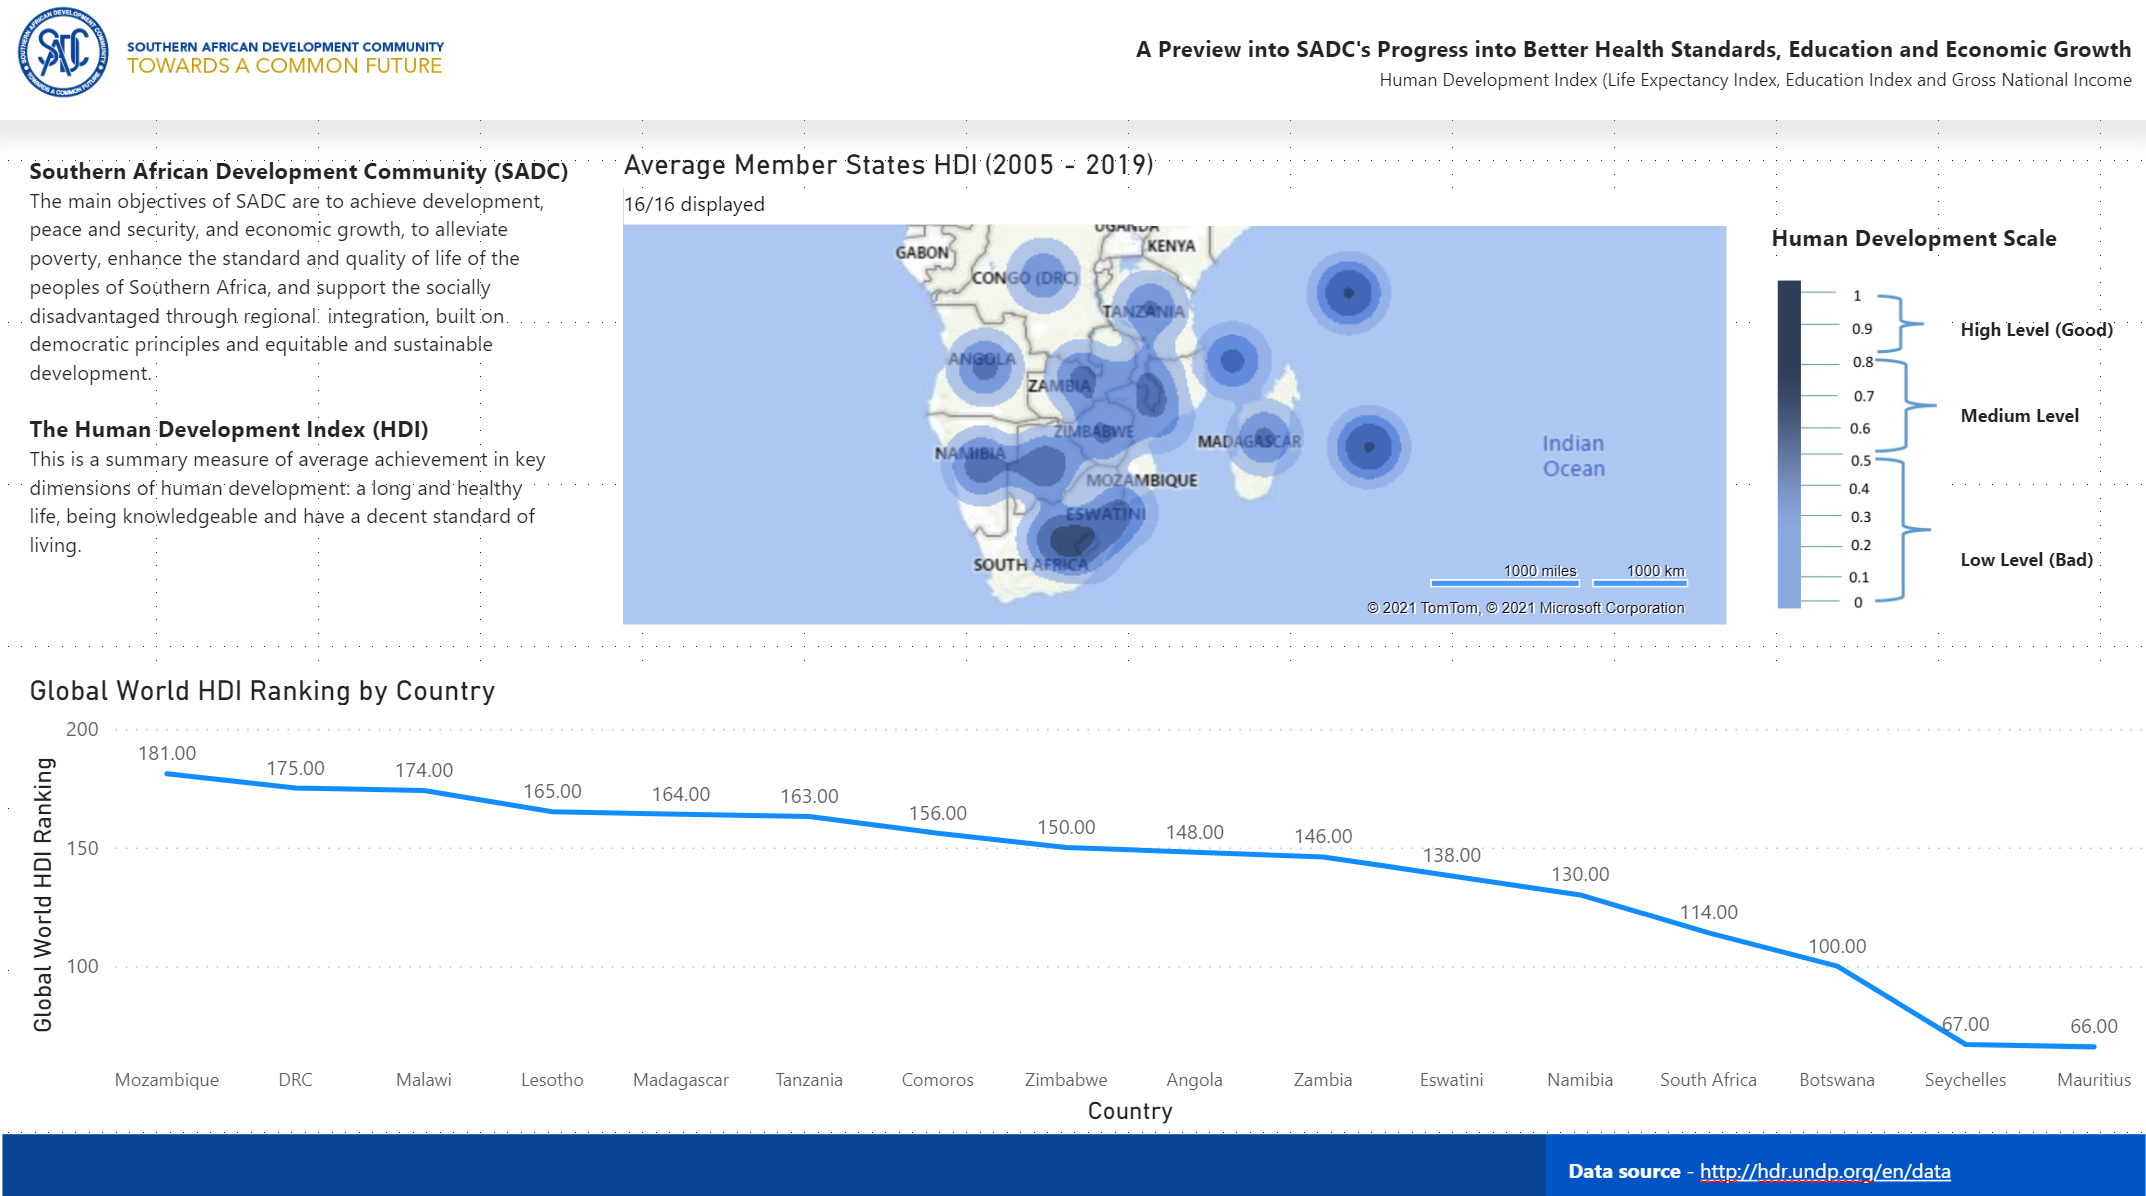

The dashboard page shown, as its layout file describes it:
{"tool":"powerbi","page":{"name":"HDI-Ranking","canvas":[1280,720],"ordinal":0},"visuals":[{"type":"image","box":[1032,152,136,224],"z":0,"group":"g1"},{"type":"group","id":"g1","title":"Group 1","box":[1032,152,248,224],"z":0},{"type":"basicShape","box":[0,0,1280,72],"z":1000},{"type":"textbox","box":[1160,180.9,120,180.6],"z":1000,"group":"g1"},{"type":"lineChart","fields":{"Category":["SADC Members.Country"],"Y":["Avg(Human Development Index (HDI).HDI Rank)"]},"box":[16,400,1264,272],"z":2000},{"type":"image","box":[0,0,280,64],"z":3000},{"type":"textbox","box":[608,16,664,48],"z":4000},{"type":"textbox","box":[16,88,336,280],"z":5000},{"type":"heatmapF244EA9EE1F34E828A80CF19B41976F8","title":"Average Member States HDI (2005 - 2019)","fields":{"location":["SADC Members.Country"],"value":["Avg(Human Development Index (HDI).HDI)"]},"box":[368,88,664,288],"z":6000},{"type":"image","box":[0,664,1280,56],"z":7000},{"type":"textbox","box":[1048,128,224,32],"z":9000},{"type":"textbox","box":[928,680,352,32],"z":9001}]}

Visuals, with their boxes in screenshot pixels (x1, y1, x2, y2), scaled from the page's 1280x720 canvas onto the 2146x1196 screenshot:
image: left=1730, top=252, right=1958, bottom=625
"Group 1" group: left=1730, top=252, right=2145, bottom=625
basicShape: left=0, top=0, right=2145, bottom=120
textbox: left=1945, top=300, right=2145, bottom=600
lineChart - SADC Members.Country x Avg(Human Development Index (HDI).HDI Rank): left=27, top=664, right=2145, bottom=1116
image: left=0, top=0, right=469, bottom=106
textbox: left=1019, top=27, right=2133, bottom=106
textbox: left=27, top=146, right=590, bottom=611
"Average Member States HDI (2005 - 2019)" heatmapF244EA9EE1F34E828A80CF19B41976F8: left=617, top=146, right=1730, bottom=625
image: left=0, top=1103, right=2145, bottom=1195
textbox: left=1757, top=213, right=2133, bottom=266
textbox: left=1556, top=1130, right=2145, bottom=1183
